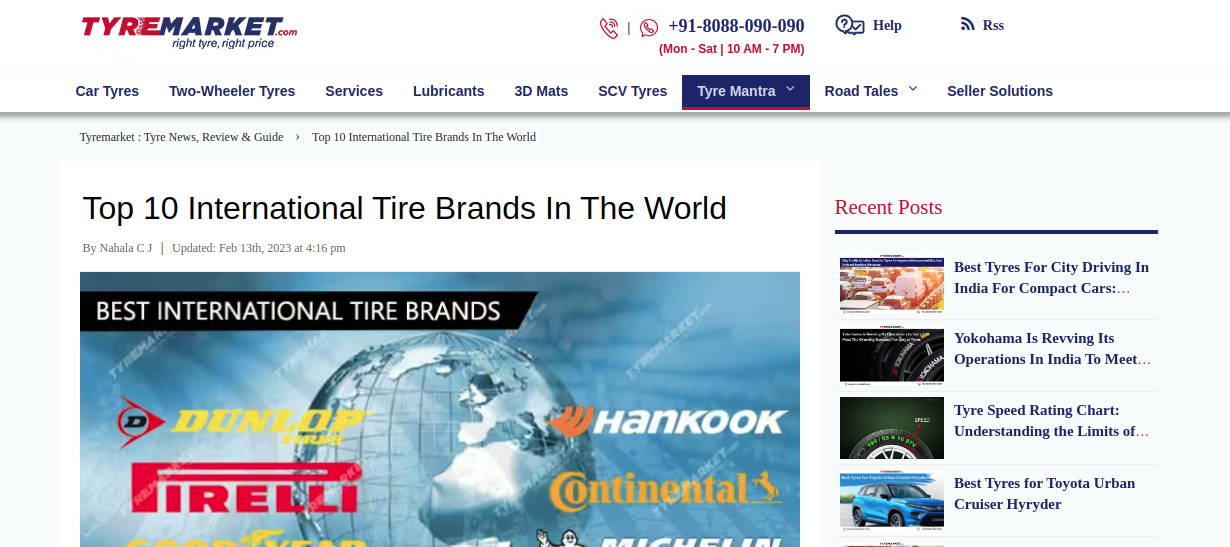menu-bar: (19, 6, 1180, 126)
